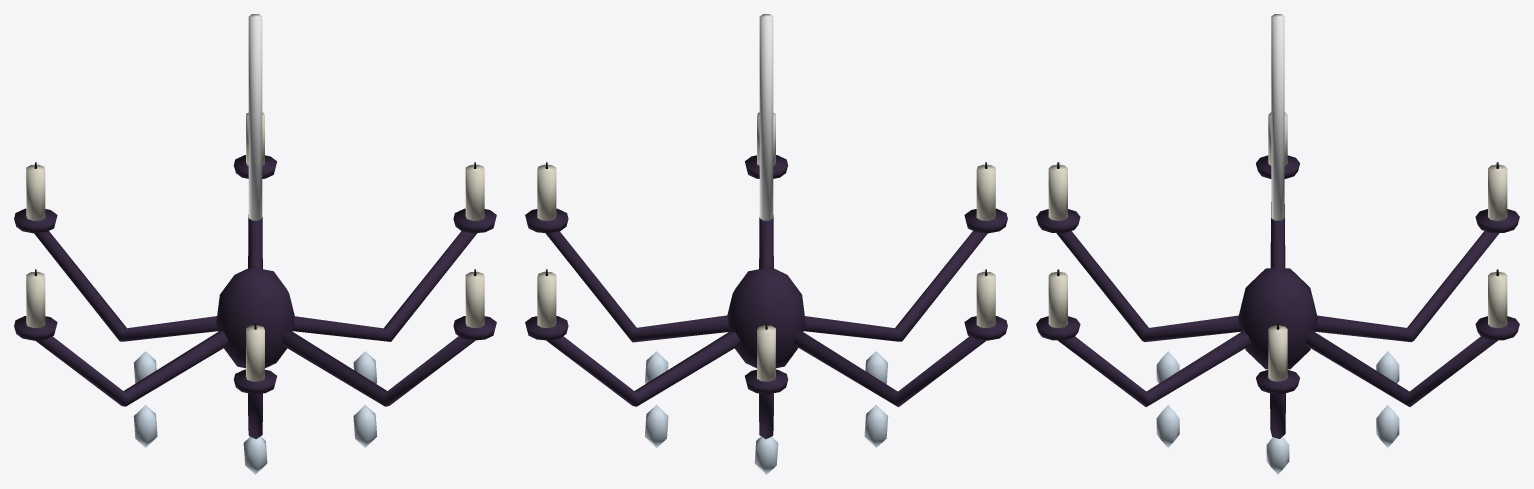
File: obsidian_chandelier_v0.glb
3 views of the same model, side by side, from view 1: azimuth 30°, elevation 25°; view 2: azimuth 150°, elevation 25°; view 3: azimuth 270°, elevation 25° (orthographic).
Parts seen in each view (by area): view 1: obsidian_chandelier_v0; view 2: obsidian_chandelier_v0; view 3: obsidian_chandelier_v0.
Part boxes in pixels (left/top/right/bottom): obsidian_chandelier_v0: left=14, top=14, right=496, bottom=474; obsidian_chandelier_v0: left=525, top=14, right=1007, bottom=474; obsidian_chandelier_v0: left=1036, top=14, right=1519, bottom=474.
Size of the model in its own units: 1.24 by 1 by 1.09.
